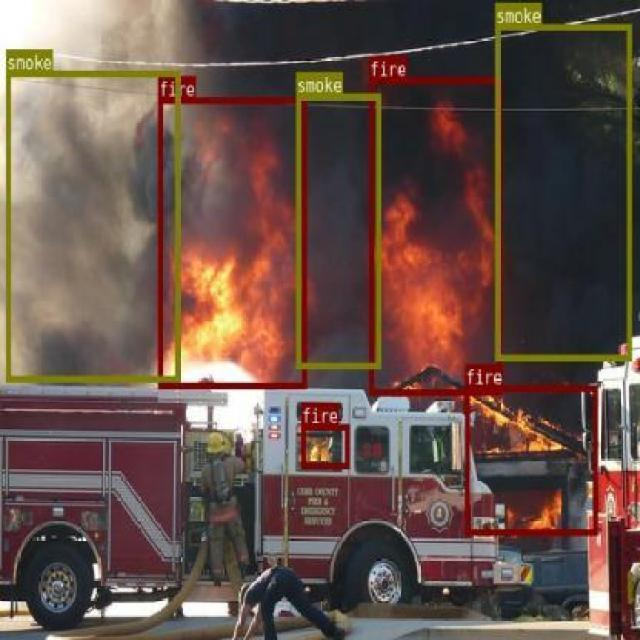Fire: (160, 132, 308, 397), (363, 123, 513, 377), (448, 382, 592, 547), (305, 440, 348, 470)
Smoke: (133, 10, 627, 237), (25, 0, 210, 388), (492, 2, 640, 400), (290, 0, 408, 400)
